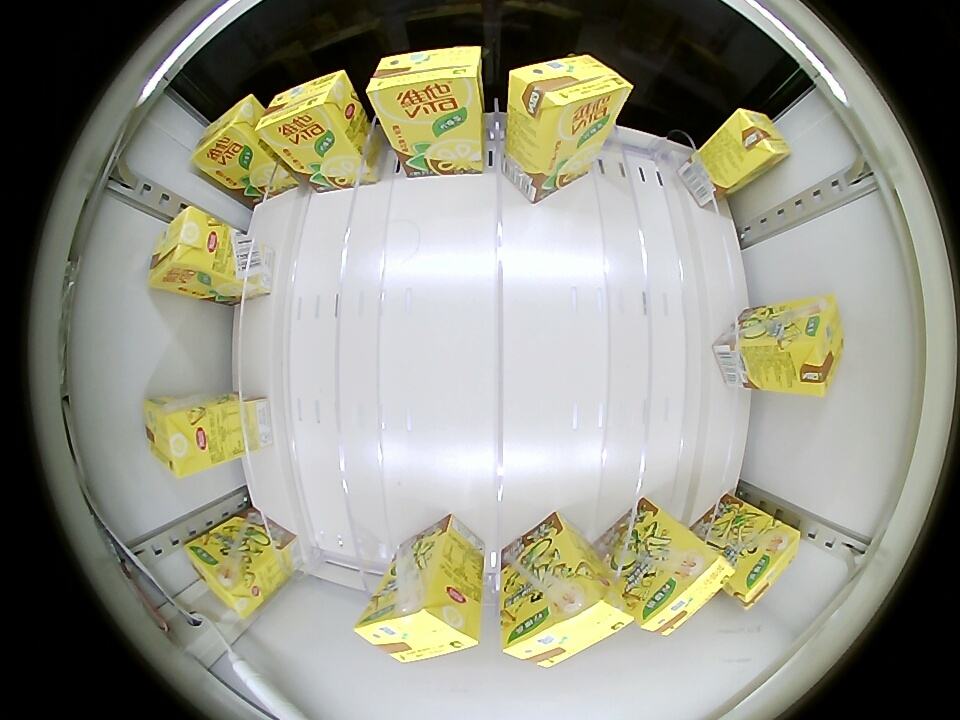weitaningmeng: (356, 516, 485, 660), (503, 575, 635, 669), (507, 54, 632, 152), (634, 536, 736, 638), (354, 592, 479, 664), (255, 70, 358, 155), (367, 46, 483, 121), (186, 529, 267, 619), (728, 519, 801, 610), (148, 206, 221, 295), (191, 95, 261, 181), (783, 295, 842, 397), (143, 397, 209, 478), (722, 109, 791, 173)
